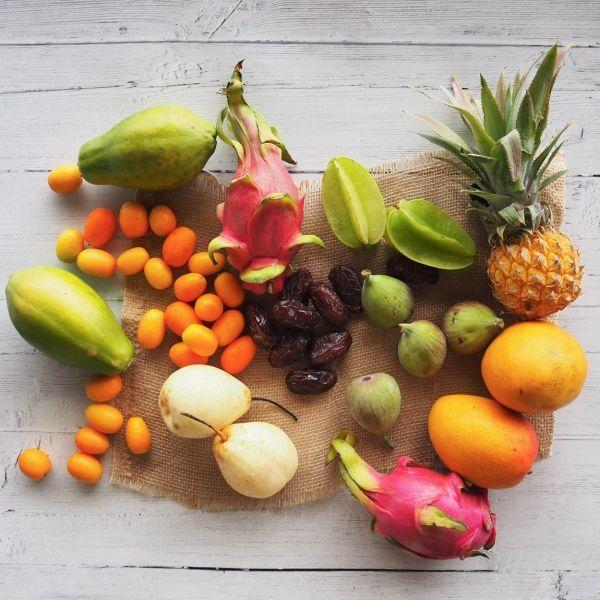thanh_long: (213, 72, 305, 293), (333, 458, 498, 557)
